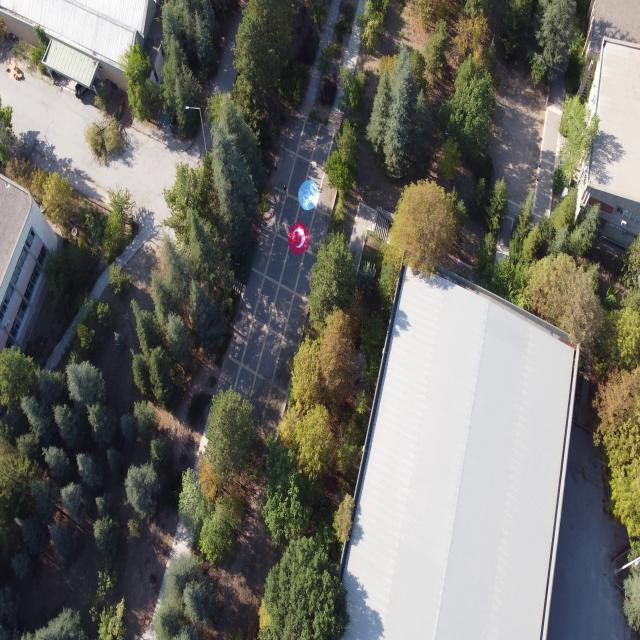vehicle: (288, 222, 309, 254), (298, 180, 319, 210), (267, 168, 271, 174), (284, 184, 286, 196), (274, 161, 276, 169)
